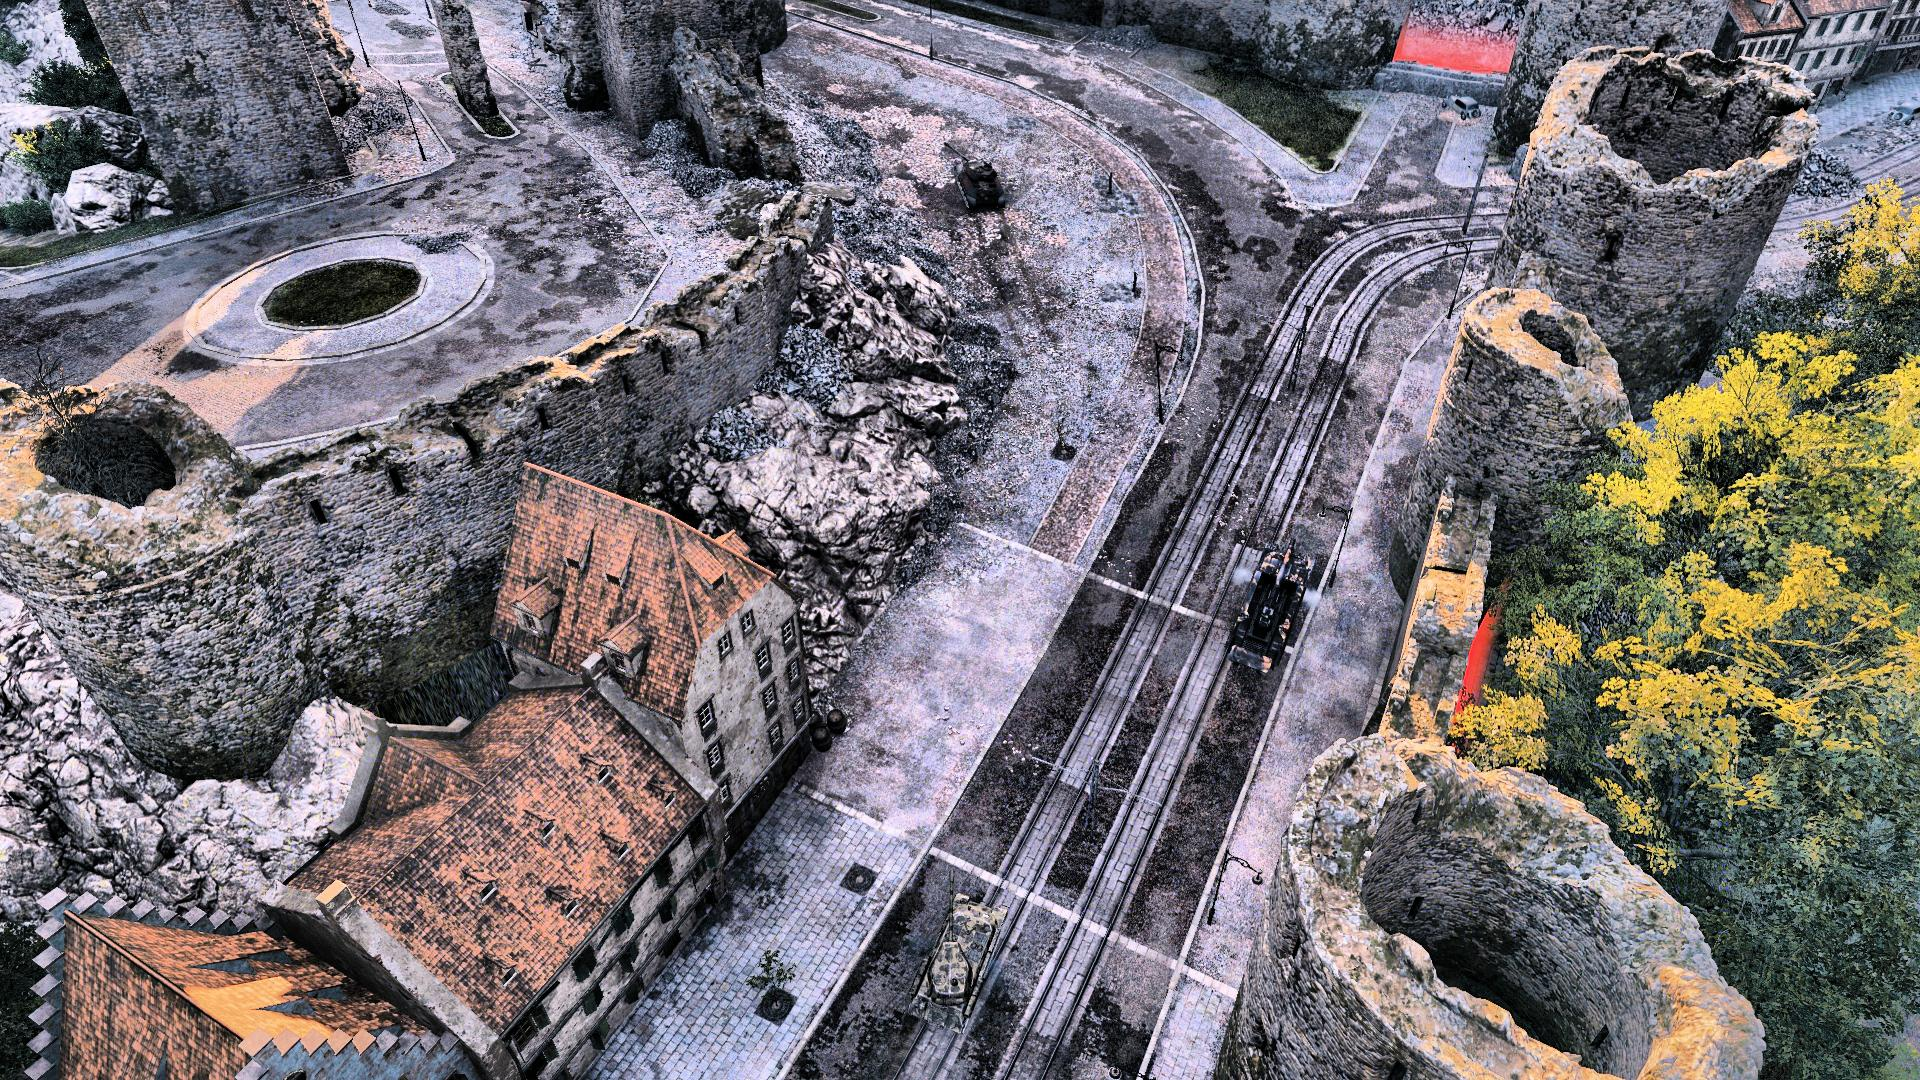military-vehicle: (902, 891, 1010, 1029), (1224, 533, 1315, 676), (939, 141, 1006, 214)
